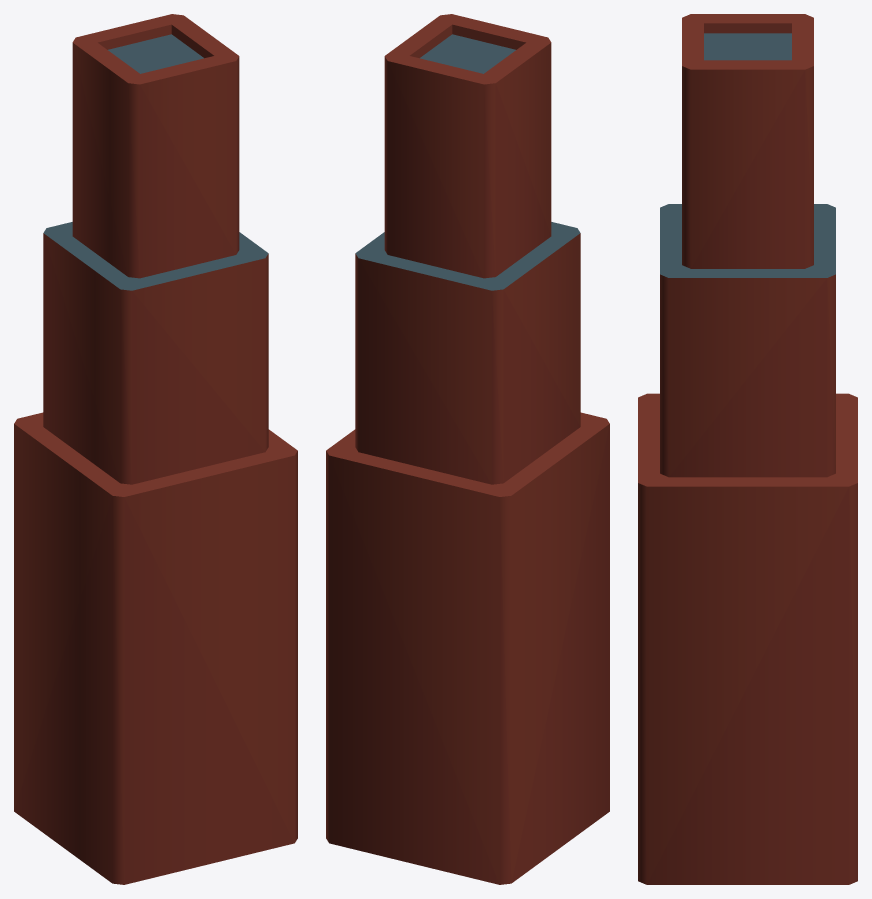
The model's file is block-f.high.ff841b45.glb.
3 renders of one model, left to right at view 1: azimuth 30°, elevation 25°; view 2: azimuth 150°, elevation 25°; view 3: azimuth 270°, elevation 25°, orthographic. The views are drawn at different scales.
Parts seen in each view (by area): view 1: block-f; view 2: block-f; view 3: block-f.
Boxes of the visible parts, x1,y1,x2,y2 form: block-f: (14, 14, 297, 884); block-f: (326, 14, 609, 884); block-f: (638, 14, 857, 884).
Bounding box in the file's own units: 6 × 24 × 6.
